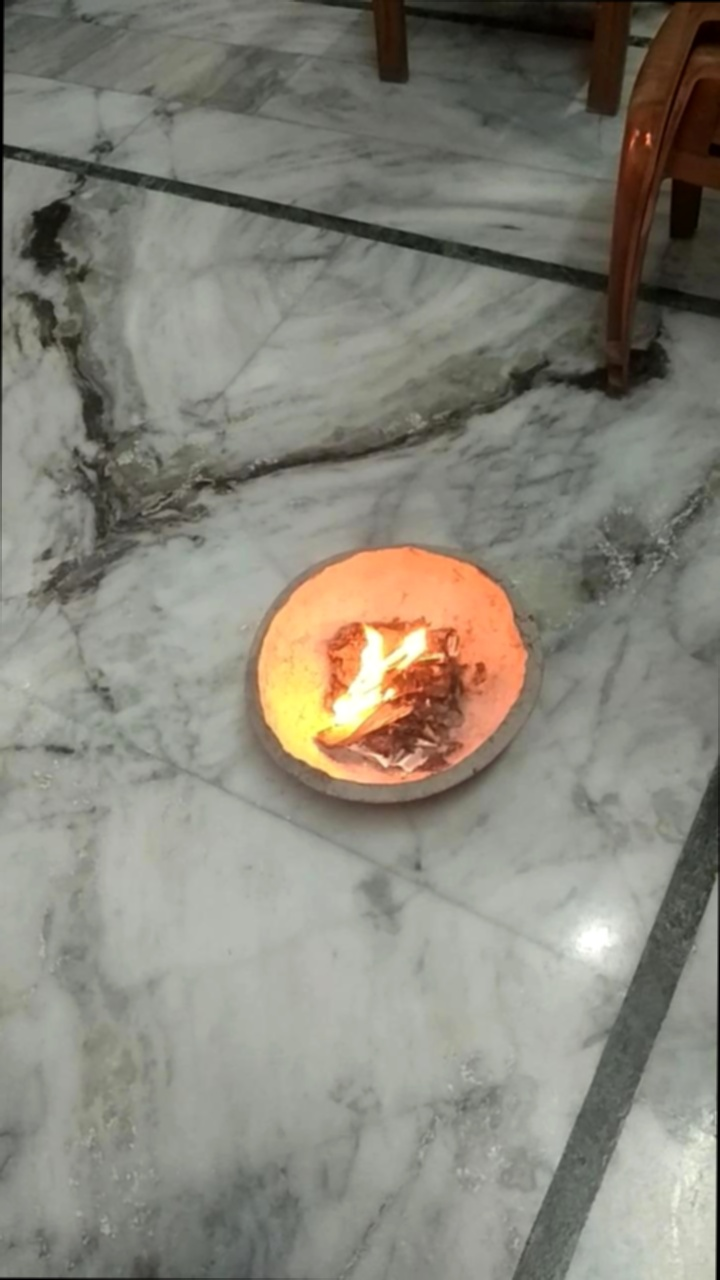fire: (306, 617, 420, 762)
